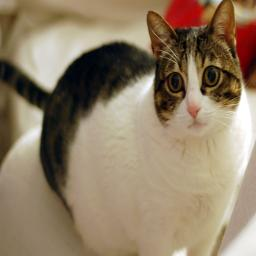catnose: (187, 104, 201, 119)
